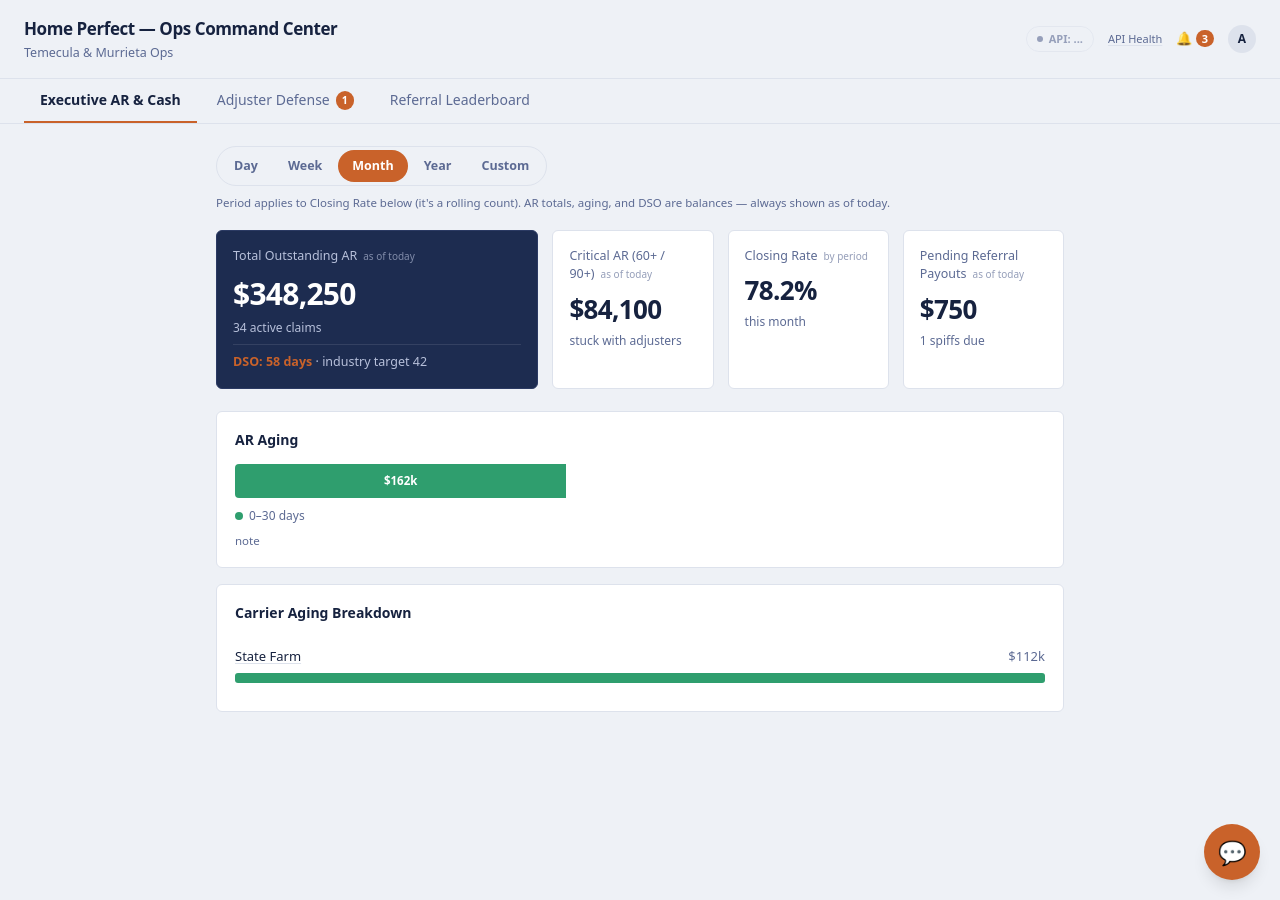
Test: DashboardShell › opens the claim detail modal when a case title is clicked
This screenshot has width=1280, height=900.
Click the tab "Adjuster Defense 1" at (285, 101), box [201,79,370,123]
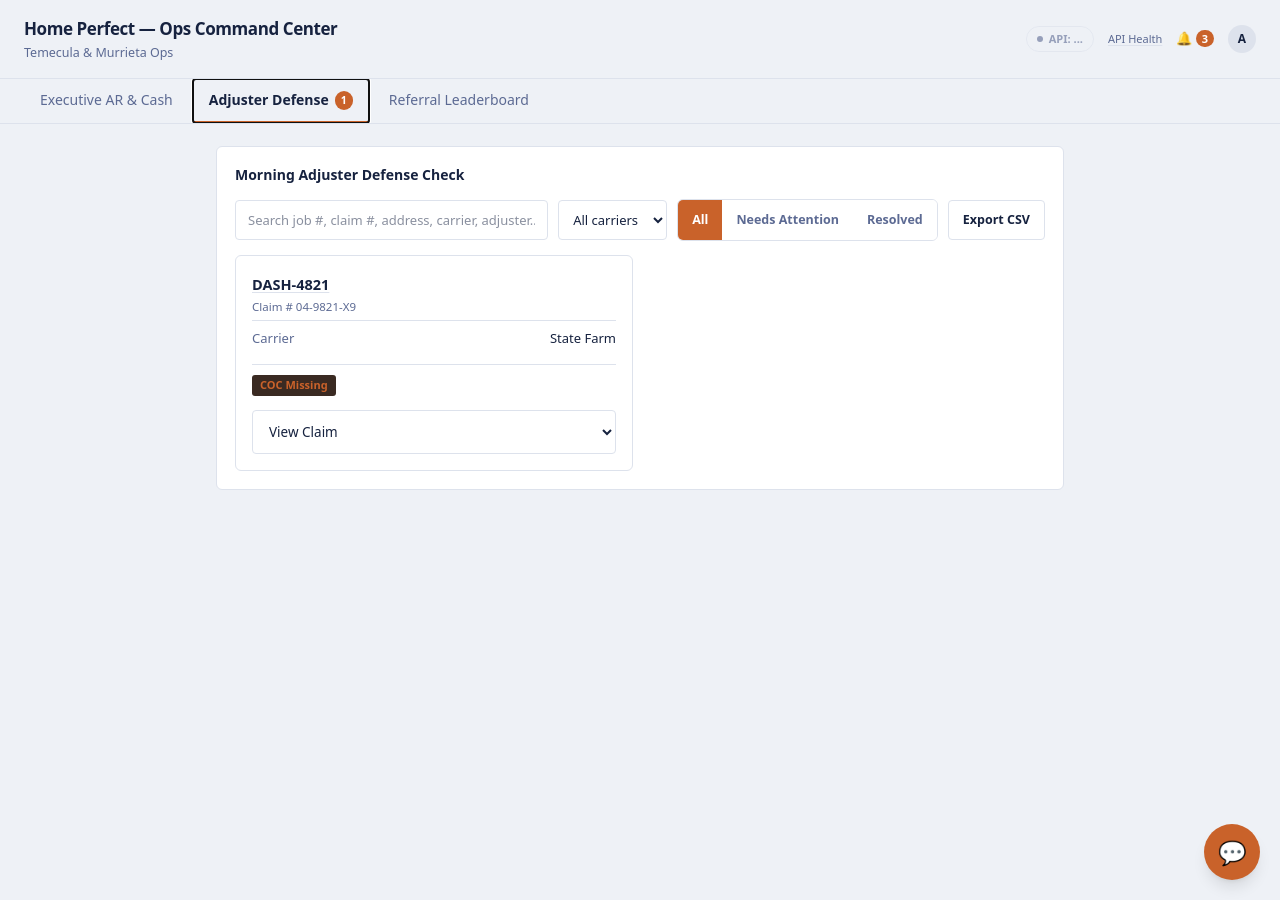
Click the button "DASH-4821" at (291, 285), box [252,274,329,296]
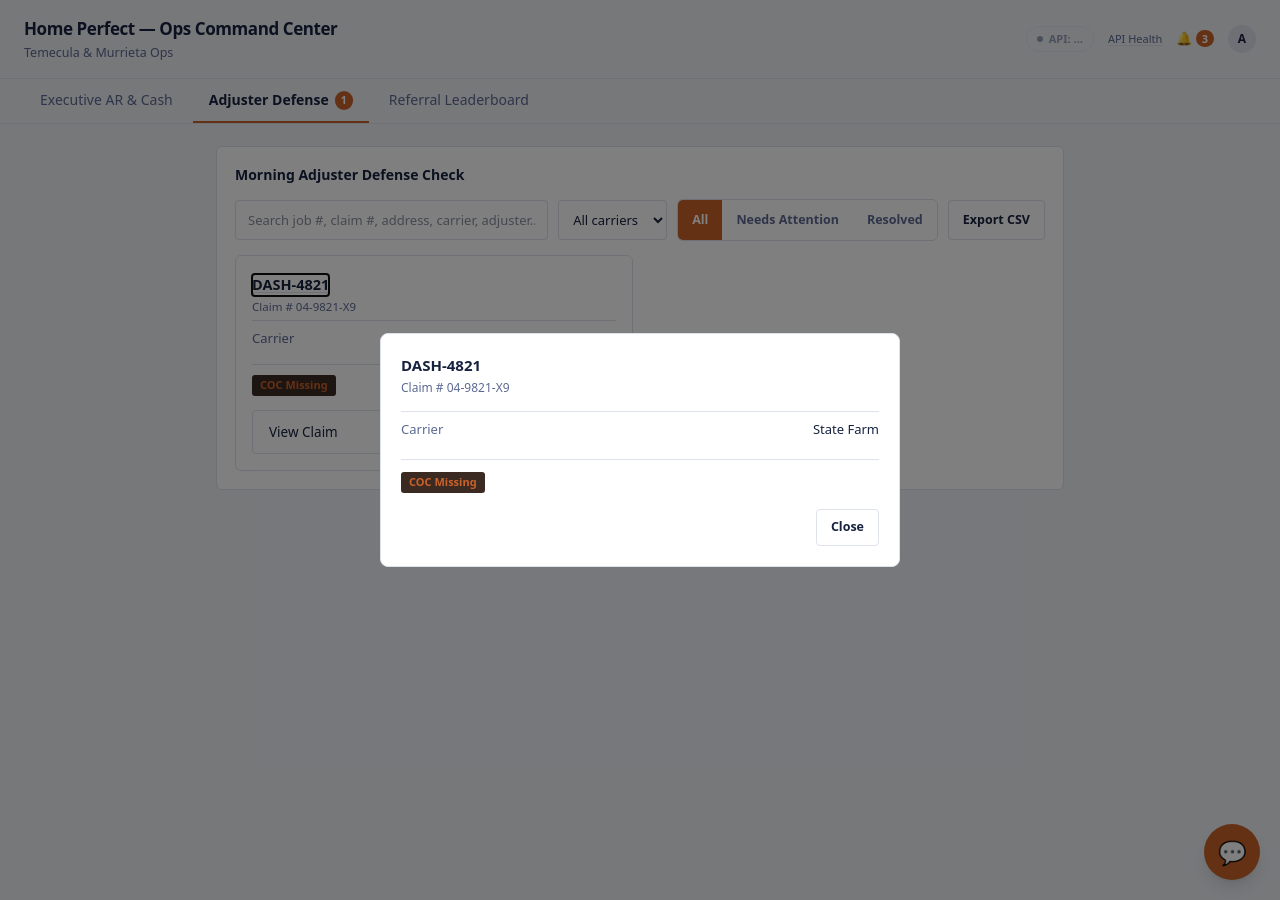
Result: the dialog "DASH-4821" is shown
